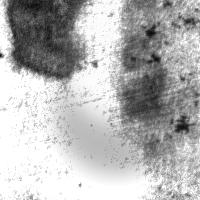patches: (54, 0, 200, 124), (55, 55, 175, 175), (121, 14, 200, 172), (6, 1, 88, 79), (119, 54, 171, 125)
